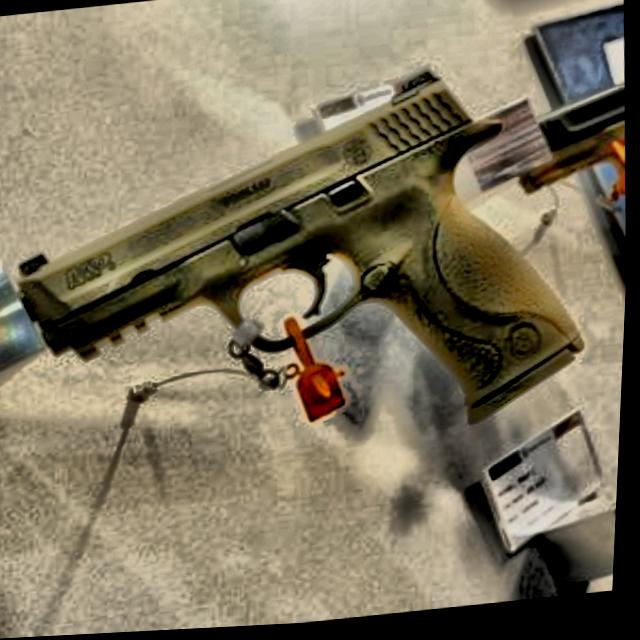pistol: (11, 53, 602, 453)
